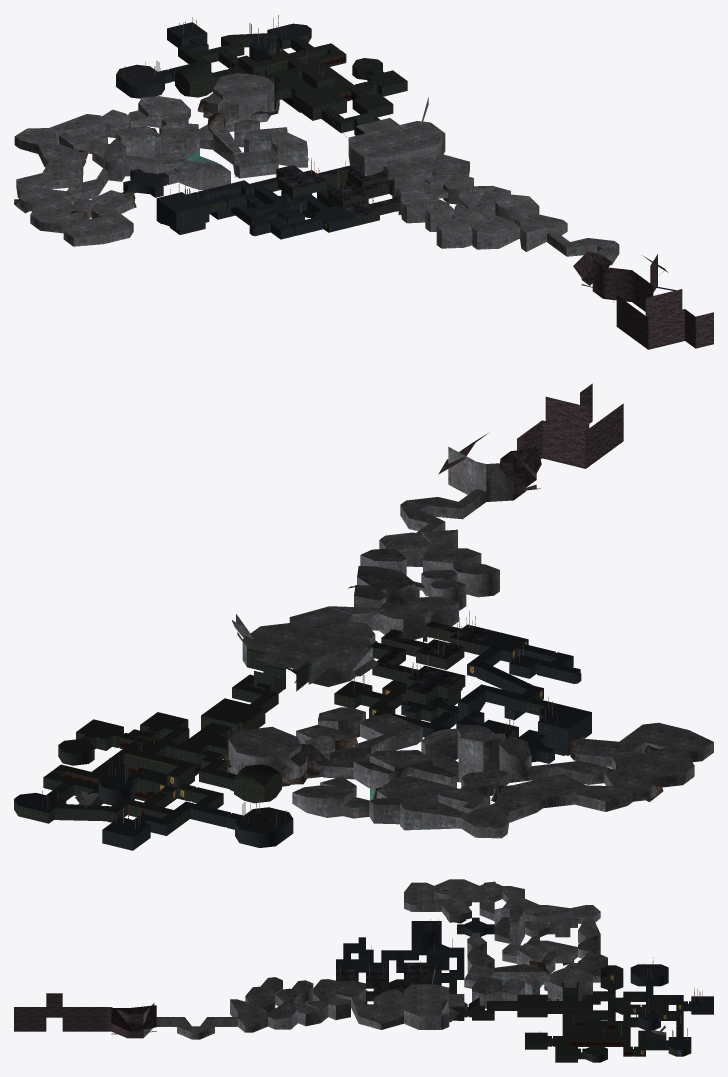
Rendered from najena.glb.
The picture shows the model from 3 angles, top to bottom: view 1: azimuth 30°, elevation 25°; view 2: azimuth 150°, elevation 25°; view 3: azimuth 270°, elevation 25°; orthographic projection. The views are drawn at different scales.
Parts seen in each view (by area): view 1: najena; view 2: najena; view 3: najena.
Boxes of the visible parts, <box> form: najena: <box>14,22,713,349</box>; najena: <box>14,383,713,850</box>; najena: <box>14,879,713,1062</box>.
Size of the model in its own units: 71.37 by 11.8 by 130.
Materials: 126 (126 with a texture image).
